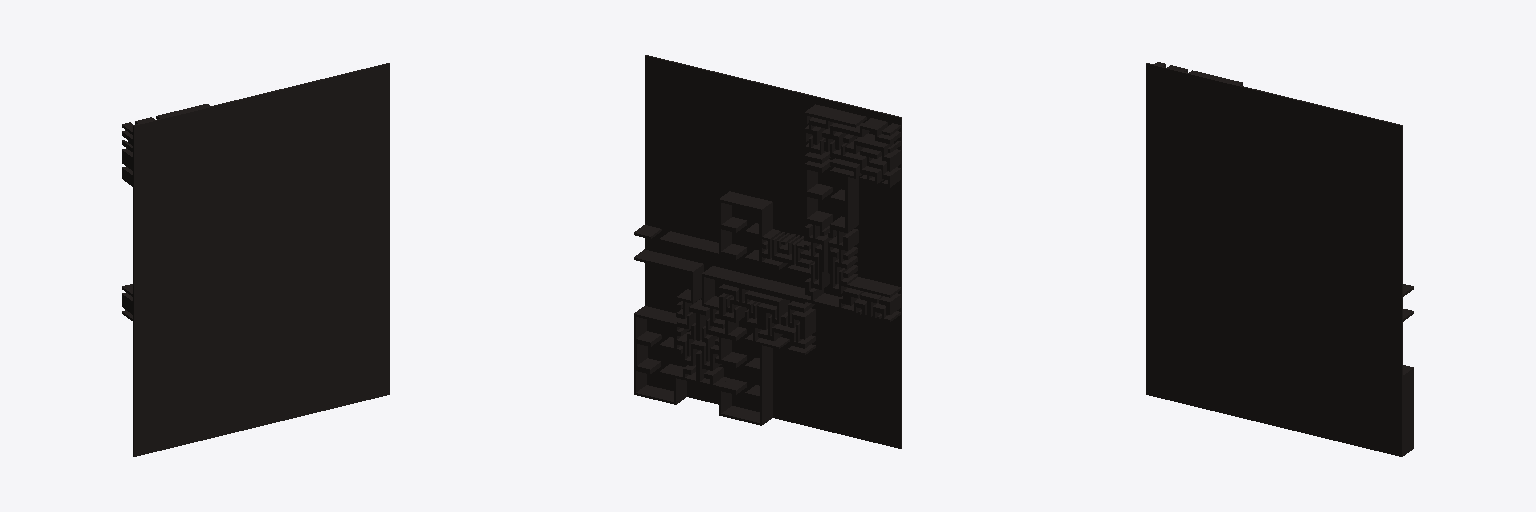
Rendered from Maze.obj.
The picture shows the model from 3 angles: view 1: azimuth 30°, elevation 25°; view 2: azimuth 150°, elevation 25°; view 3: azimuth 330°, elevation 25°; orthographic projection.
Bounding box in the file's own units: 107 × 131 × 8.68.